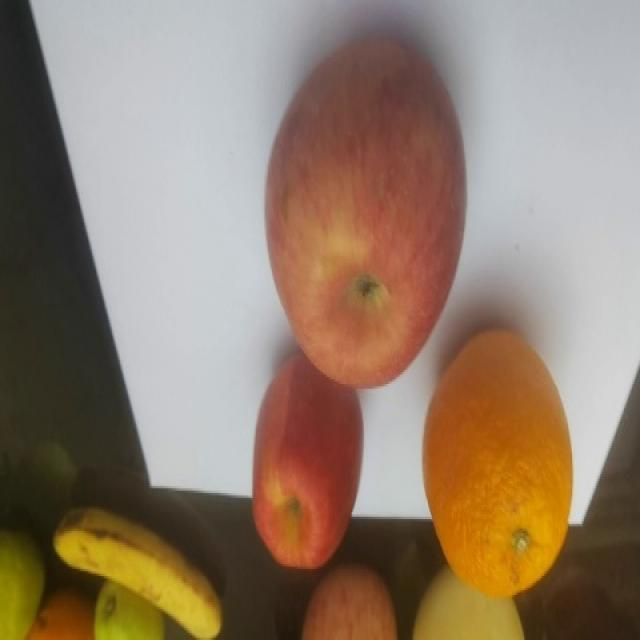Apple: (263, 34, 467, 389), (251, 349, 364, 570), (300, 562, 398, 639)
Orange: (421, 327, 573, 598)
